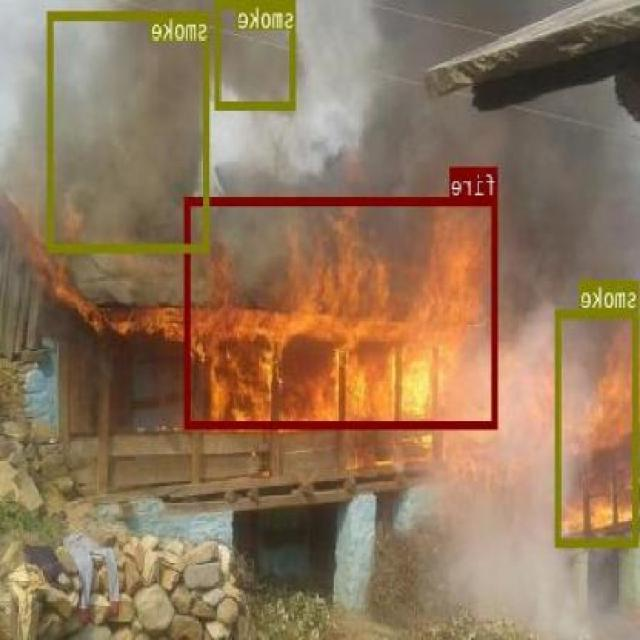Fire: (186, 196, 500, 427)
Smoke: (48, 10, 210, 252), (556, 309, 639, 546), (216, 0, 296, 109)
